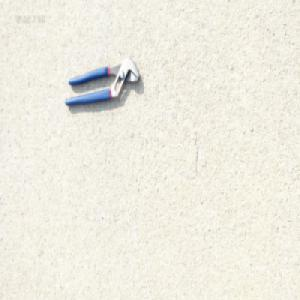Pliers: (64, 55, 141, 108)
